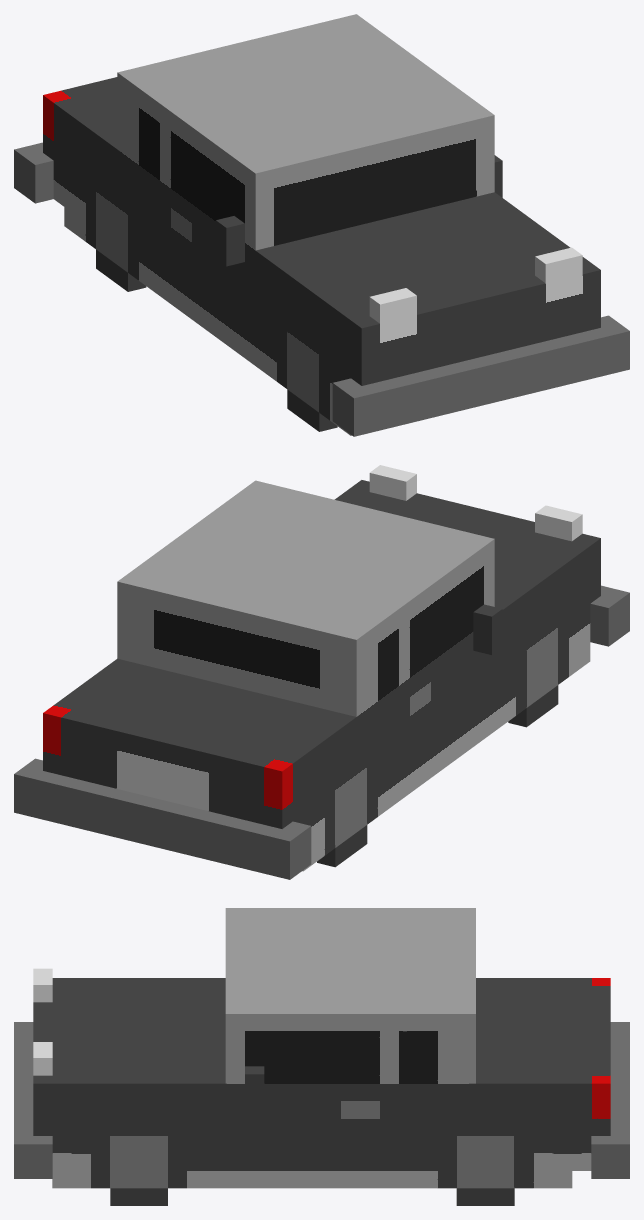
File: veh_car3.dae
The picture shows the model from 3 angles, top to bottom: view 1: azimuth 30°, elevation 25°; view 2: azimuth 150°, elevation 25°; view 3: azimuth 270°, elevation 25°; orthographic projection. The views are drawn at different scales.
Visible parts, largest first — view 1: veh_car3; view 2: veh_car3; view 3: veh_car3.
Boxes of the visible parts, bbox=[...] form: veh_car3: bbox=[14, 14, 629, 436]; veh_car3: bbox=[14, 465, 629, 879]; veh_car3: bbox=[14, 908, 629, 1205].
Size of the model in its own units: 1.5 by 3.2 by 1.1.
Materials: 1 (1 with a texture image).
